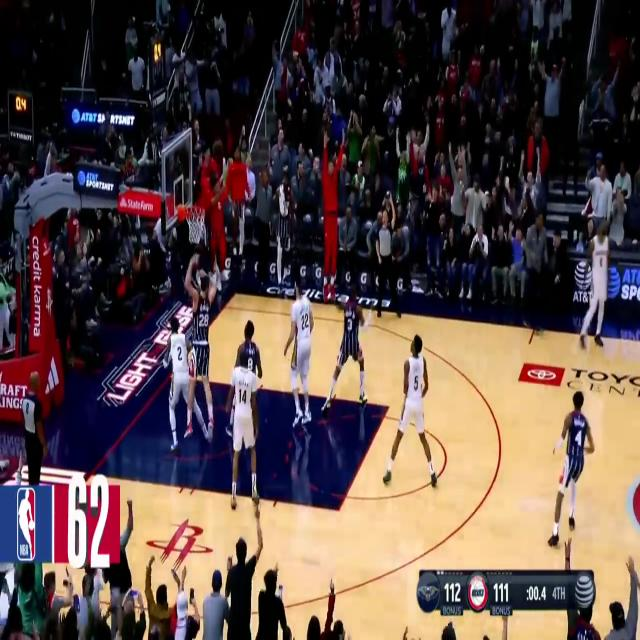Left Bottom Left Paint: (81, 457, 102, 492)
Left Bottom Right Paint: (328, 490, 349, 527)
Left Corner: (224, 272, 248, 315)
Left Tick: (523, 304, 543, 353)
Left Top Left Paint: (158, 357, 182, 396)
Left Top Right Paint: (377, 388, 400, 427)
